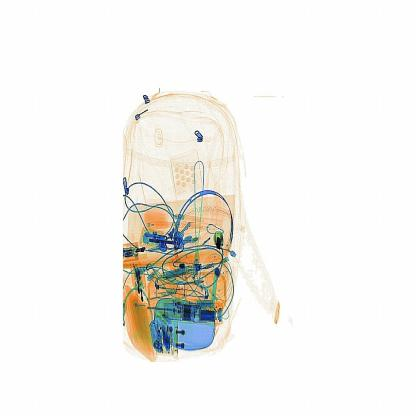wrench: (206, 222, 230, 255)
